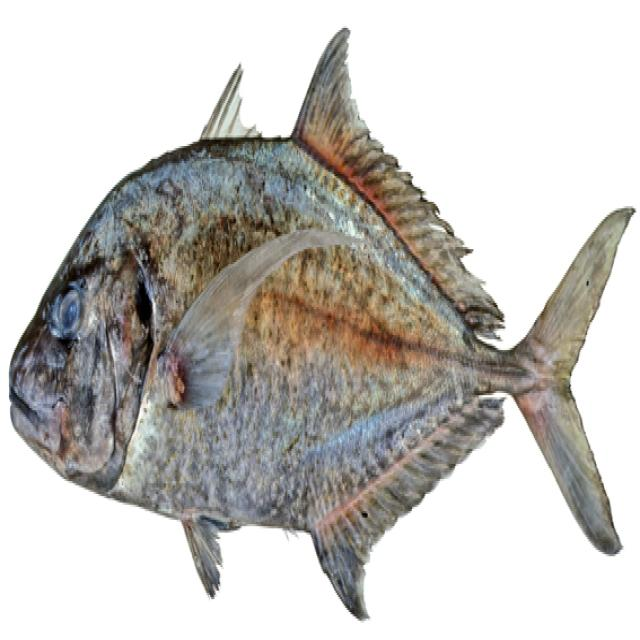ikan: (8, 24, 634, 620)
